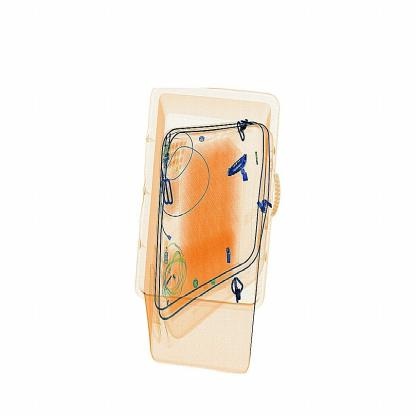knife: (220, 151, 250, 185)
